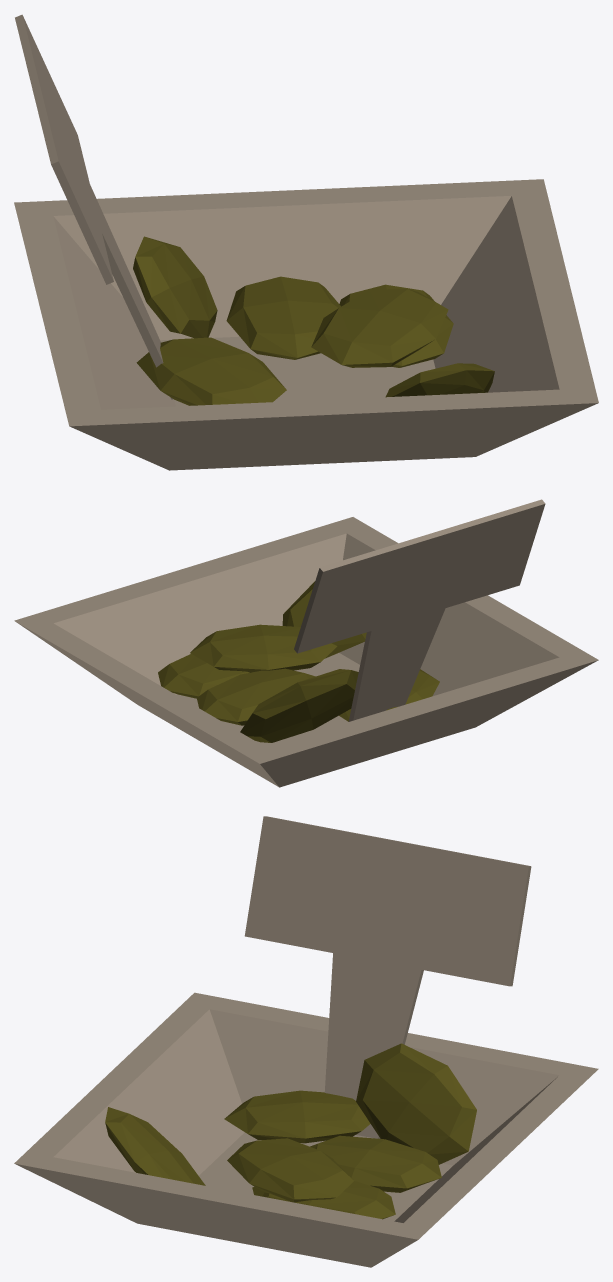
The model's file is greenSeeds-0,0.glb.
The picture shows the model from 3 angles, top to bottom: view 1: azimuth 30°, elevation 25°; view 2: azimuth 150°, elevation 25°; view 3: azimuth 270°, elevation 25°; orthographic projection. The views are drawn at different scales.
Parts seen in each view (by area): view 1: Cubo.165; view 2: Cubo.165; view 3: Cubo.165.
Part boxes in pixels (box(x1,y1,x2,y2)): Cubo.165: box(14, 14, 598, 470); Cubo.165: box(14, 499, 598, 787); Cubo.165: box(14, 816, 598, 1267).
Bounding box in the file's own units: 0.5313 × 0.2695 × 0.5313.
